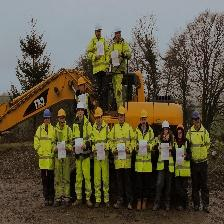Person: (189, 107, 212, 213), (113, 103, 134, 211), (134, 107, 155, 214), (92, 106, 112, 214), (72, 102, 92, 208), (88, 17, 110, 110), (34, 106, 54, 205), (52, 105, 71, 209), (153, 119, 173, 213), (111, 19, 131, 104), (175, 122, 189, 211)
helmet: (191, 110, 201, 125), (176, 122, 186, 136), (138, 108, 149, 120), (94, 22, 104, 35), (76, 101, 86, 112), (117, 106, 127, 116), (93, 108, 103, 118), (77, 77, 86, 87), (58, 108, 67, 118), (43, 110, 51, 120), (114, 25, 122, 35), (161, 121, 170, 129)
vest: (92, 119, 113, 163), (188, 126, 210, 167), (134, 128, 154, 173), (114, 125, 133, 170), (36, 125, 54, 171), (74, 117, 90, 162), (174, 138, 191, 179), (157, 135, 173, 177), (91, 37, 108, 75), (55, 125, 71, 162), (111, 40, 127, 76)
